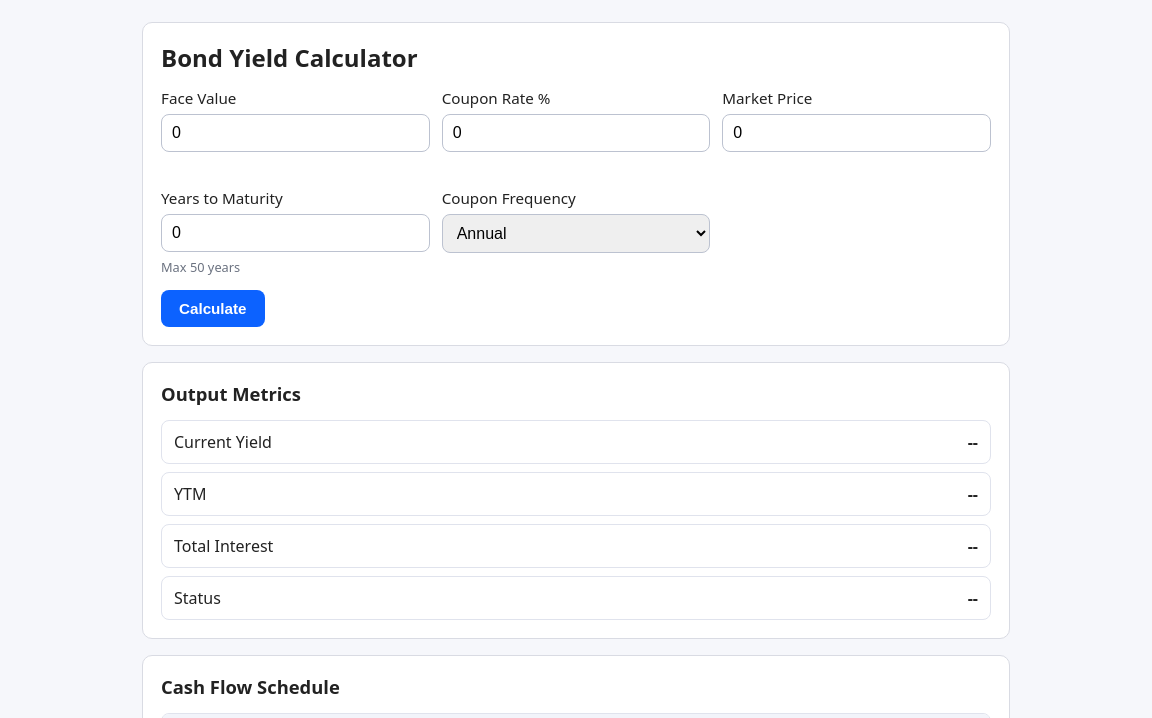
BondYieldCalculator › submits payload and renders API response
Replace the text in the field labelled "Face Value" with "1,000": (295, 133) [161,114,430,152]
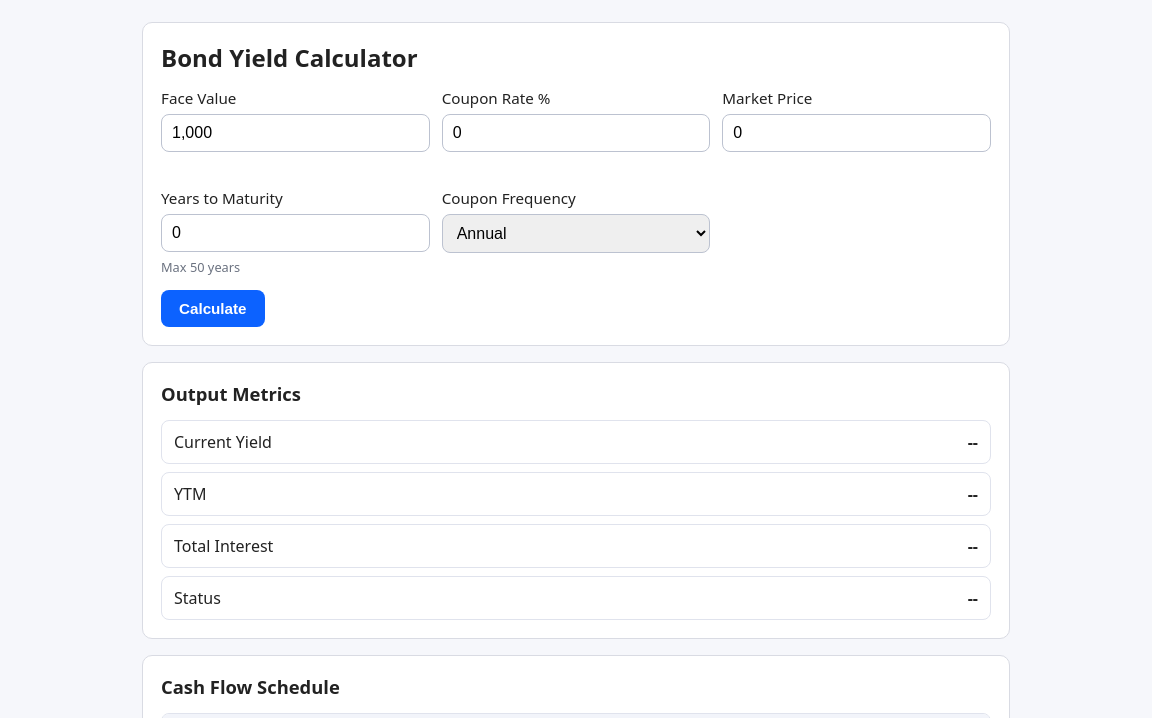
Replace the text in the field labelled "Coupon Rate %" with "8.5": (576, 133) [442,114,710,152]
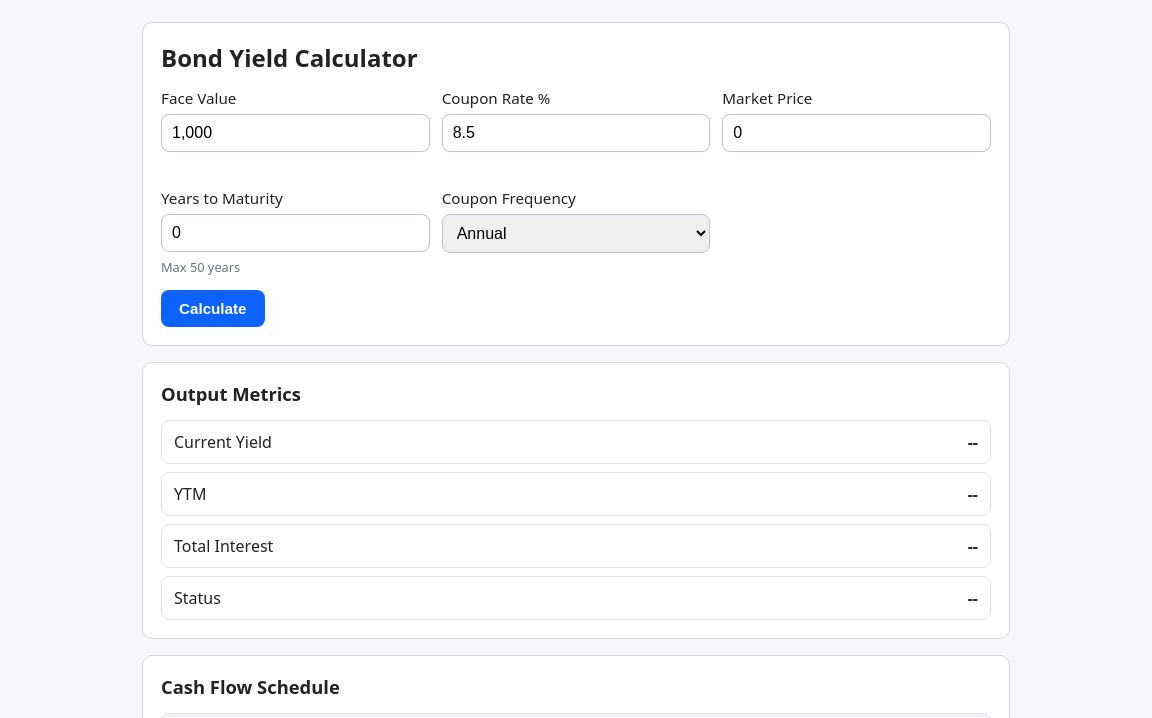
Replace the text in the field labelled "Market Price" with "950": (857, 133) [722,114,991,152]
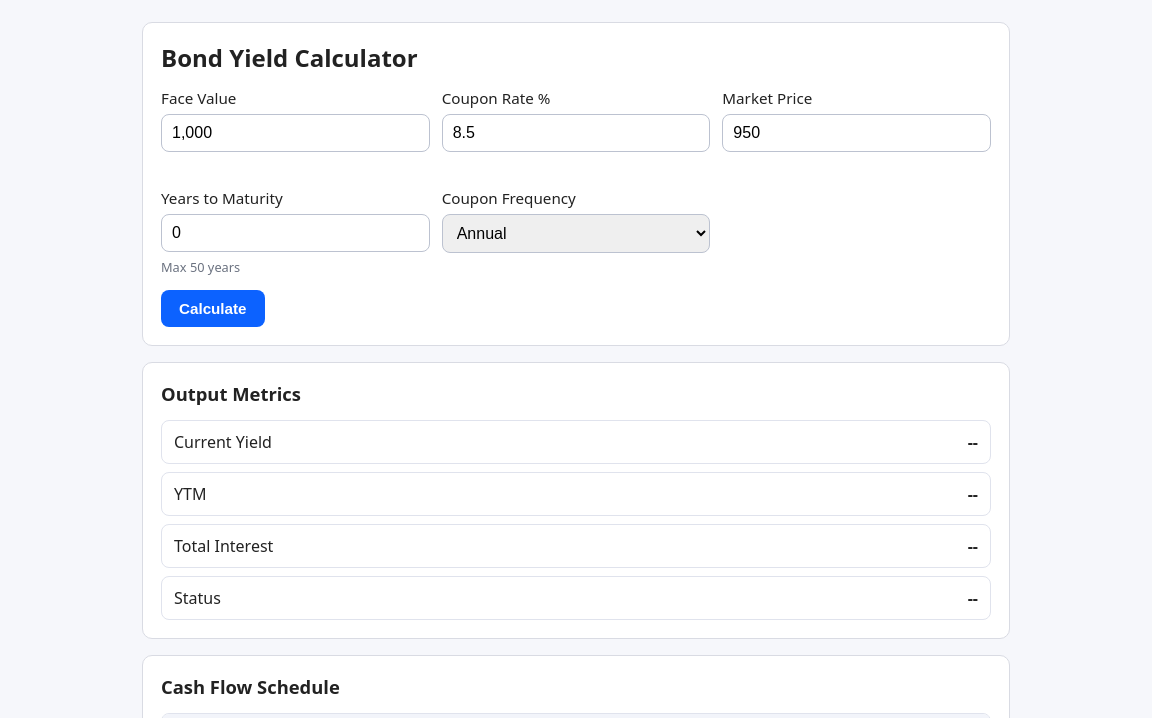
Replace the text in the field labelled "Years to Maturity Max 50 years" with "5": (295, 233) [161,214,430,252]
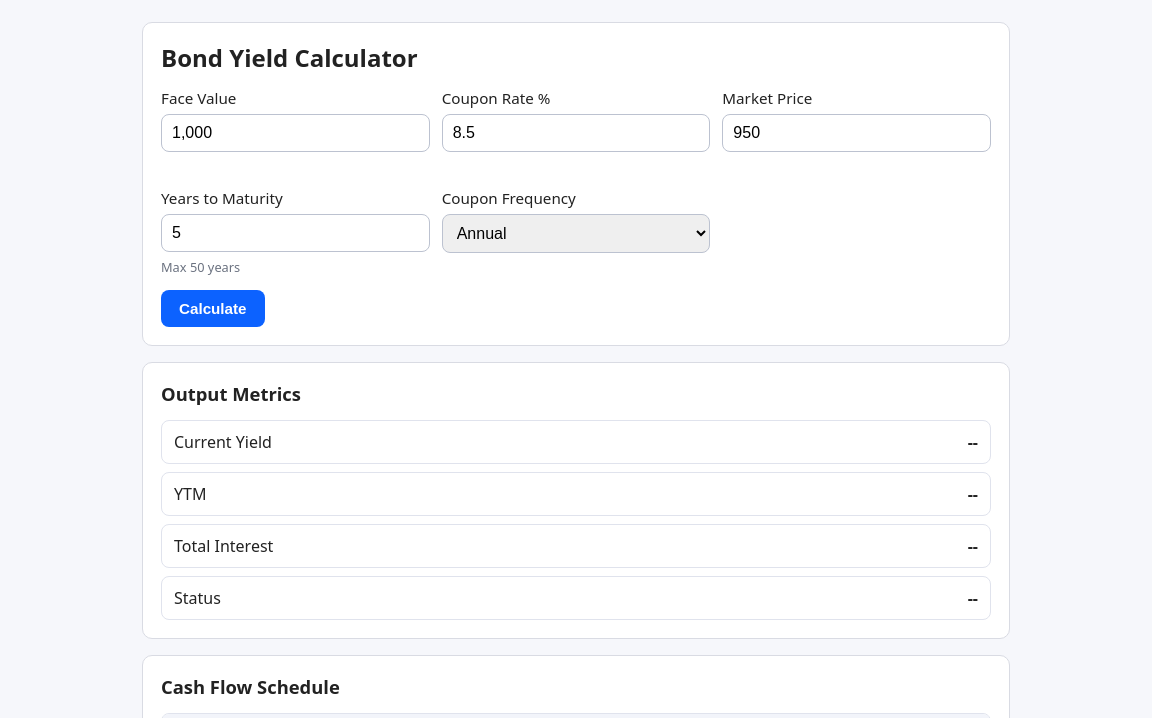
Select "Semi-Annual" in the dropdown labelled "Coupon Frequency": (576, 234) [442,214,710,253]
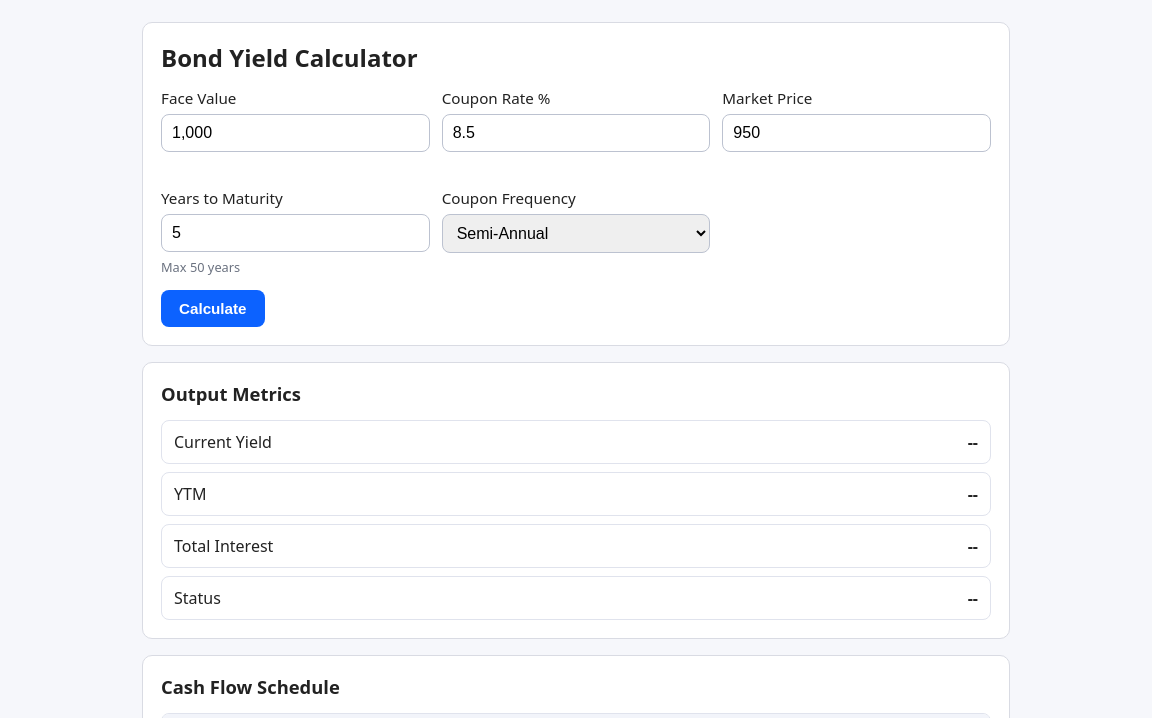
Click the button "Calculate": (213, 308) [161,290,264,327]
(page scrolled)
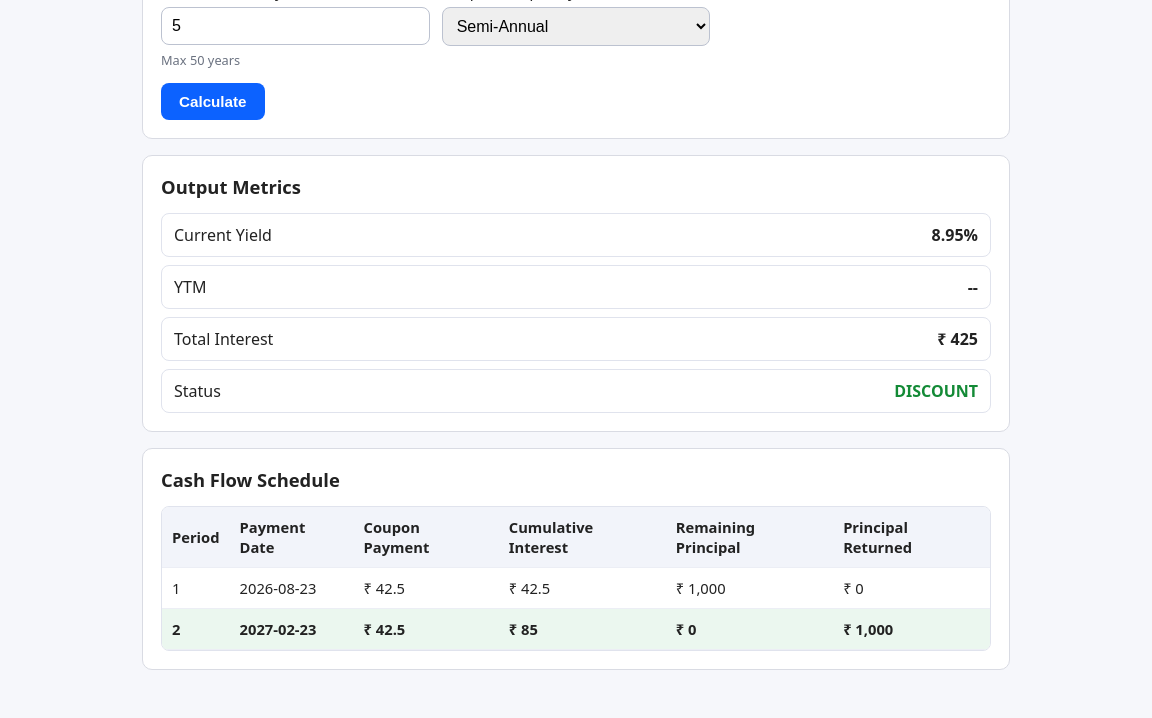
Now the text "8.95%" is shown, box [932,224,978,246]
Now the text "DISCOUNT" is shown, box [894,380,978,402]
Now the text "2027-02-23" is shown, box [230,608,354,650]
